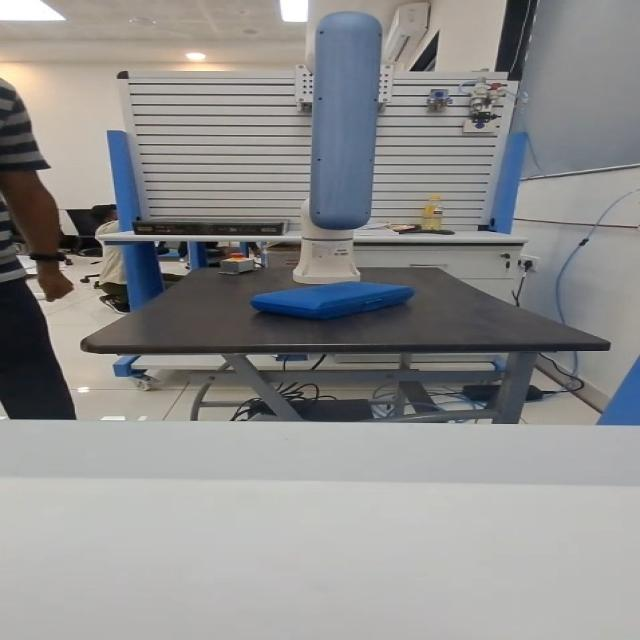top-surface: (278, 283, 391, 300)
